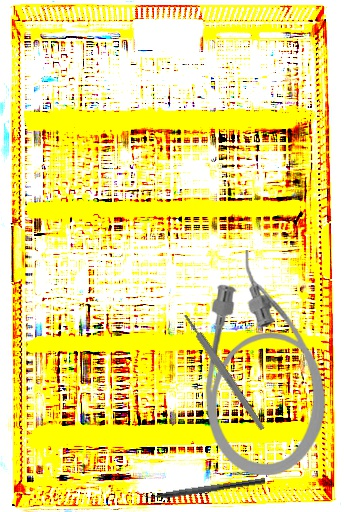Cannula: (206, 250, 325, 475)
Chopper: (136, 469, 266, 504)
Scalpel Handle: (182, 312, 266, 432)
